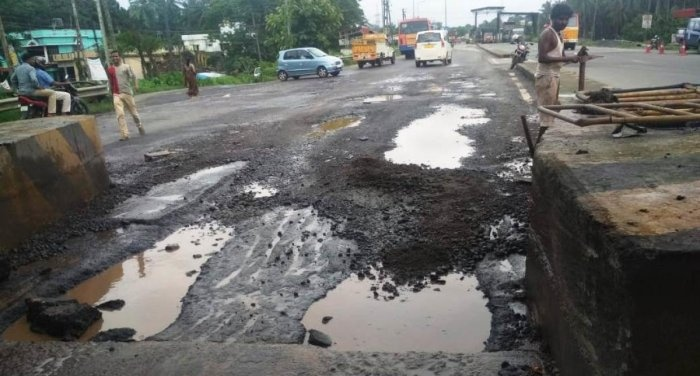pothole: (277, 220, 527, 369), (67, 185, 235, 344), (325, 69, 513, 172)
